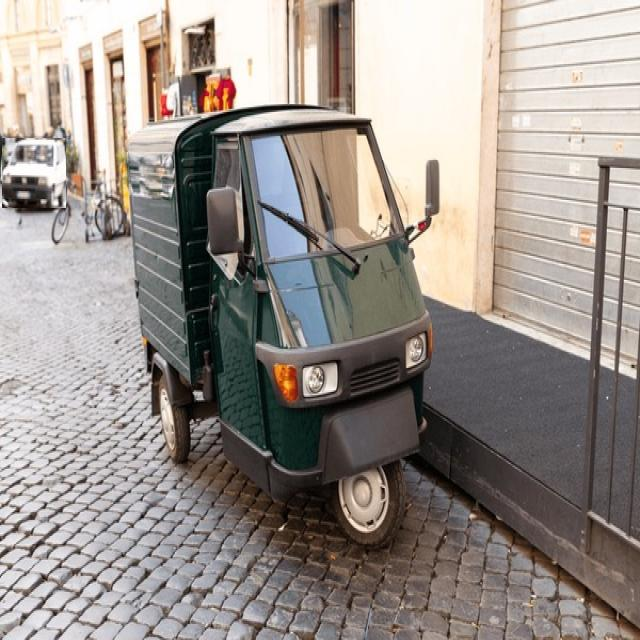autorickshaw: (128, 105, 434, 546)
car: (2, 139, 66, 208)
